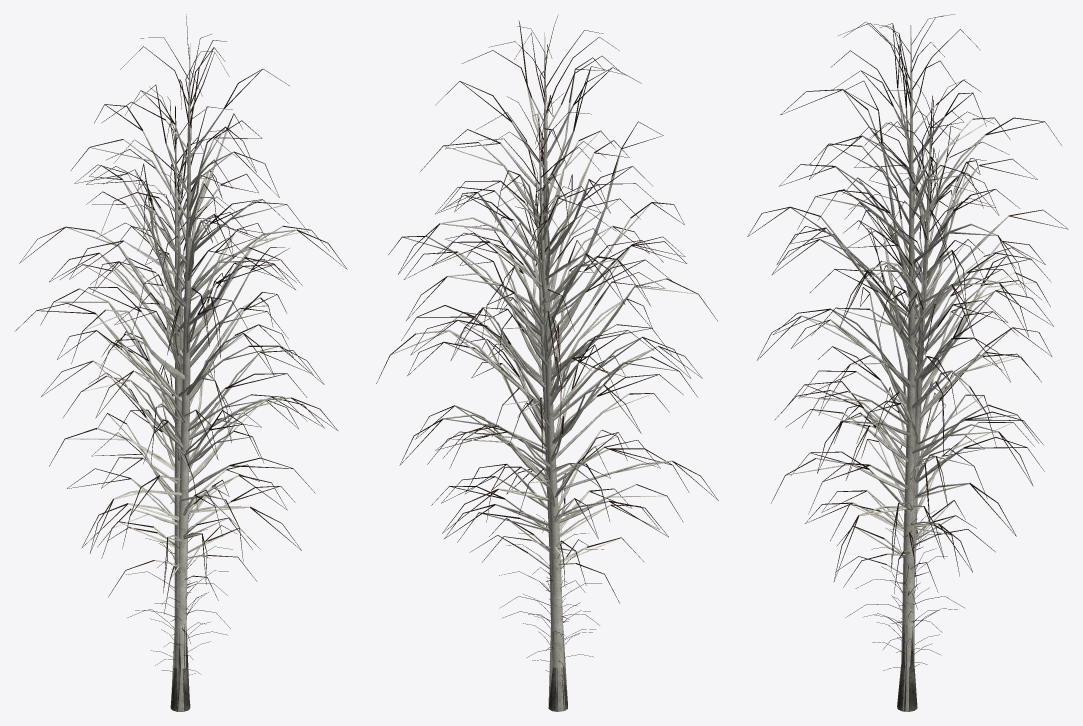
Rendered from birch_wood.glb.
3 views of the same model, side by side, from view 1: azimuth 30°, elevation 25°; view 2: azimuth 150°, elevation 25°; view 3: azimuth 270°, elevation 25° (orthographic). The views are drawn at different scales.
Parts seen in each view (by area): view 1: birch_c, birch_a, birch_c_l1, birch_b, birch_a_l1, birch_b_l1, birch_c_l2, birch_sap_b; view 2: birch_c, birch_a, birch_c_l1, birch_b, birch_a_l1, birch_b_l1, birch_c_l2, birch_sap_b; view 3: birch_c, birch_a, birch_c_l1, birch_b, birch_a_l1, birch_b_l1, birch_c_l2, birch_sap_b.
Part boxes in pixels (x1,y1,x2,y2): birch_c: [19, 14, 346, 711]; birch_a: [16, 86, 324, 634]; birch_c_l1: [20, 47, 346, 710]; birch_b: [57, 157, 324, 635]; birch_a_l1: [14, 109, 323, 620]; birch_b_l1: [57, 187, 323, 590]; birch_c_l2: [171, 150, 190, 708]; birch_sap_b: [126, 513, 232, 659]; birch_c: [376, 14, 718, 711]; birch_a: [401, 93, 702, 622]; birch_c_l1: [381, 29, 717, 711]; birch_b: [407, 160, 689, 635]; birch_a_l1: [404, 118, 701, 620]; birch_b_l1: [408, 189, 688, 538]; birch_c_l2: [543, 52, 567, 711]; birch_sap_b: [499, 507, 603, 666]; birch_c: [747, 14, 1061, 711]; birch_a: [757, 76, 1068, 623]; birch_c_l1: [748, 25, 1058, 711]; birch_b: [782, 149, 1052, 621]; birch_a_l1: [758, 100, 1067, 567]; birch_b_l1: [781, 178, 1051, 573]; birch_c_l2: [900, 30, 914, 710]; birch_sap_b: [845, 510, 964, 655].
Bounding box in the file's own units: 8.76 × 19.43 × 8.04.
3 materials, 3 textured.
